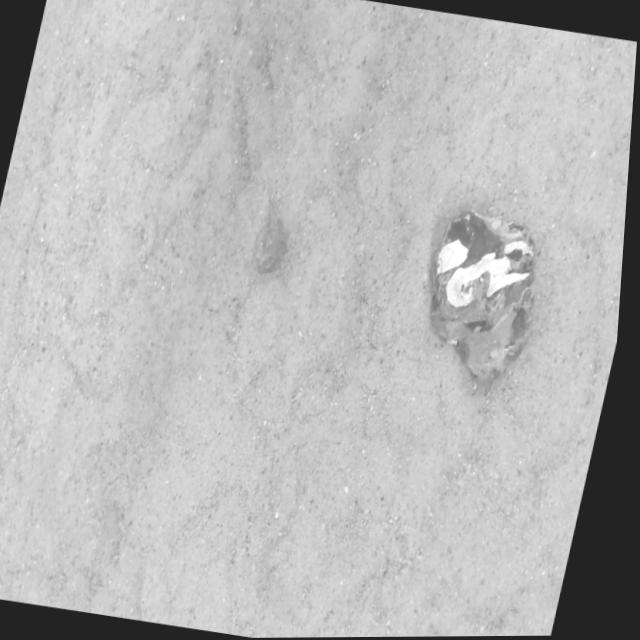rock: (437, 215, 538, 382), (259, 219, 291, 273)
